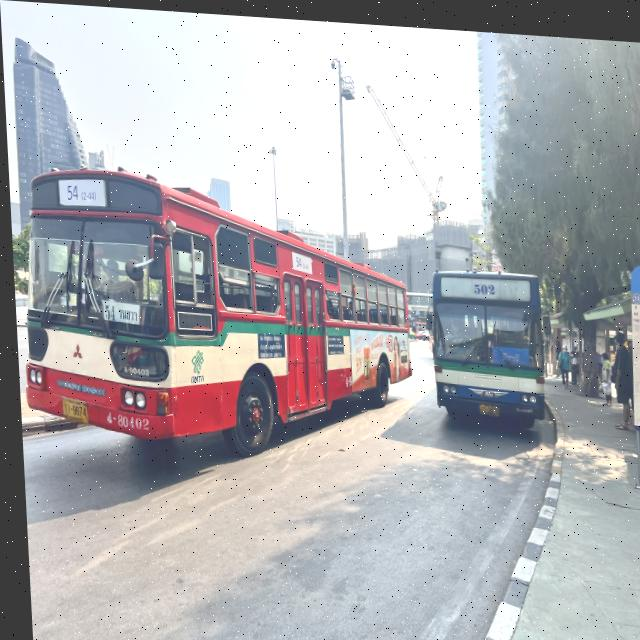BMTA-bus: (20, 165, 408, 454), (424, 264, 546, 426)
Bus Line Number: (60, 173, 99, 207), (468, 272, 496, 293)
Bus Side Number: (99, 407, 150, 433), (510, 399, 529, 408)
Destination Sign: (97, 298, 139, 325), (489, 338, 526, 360)
